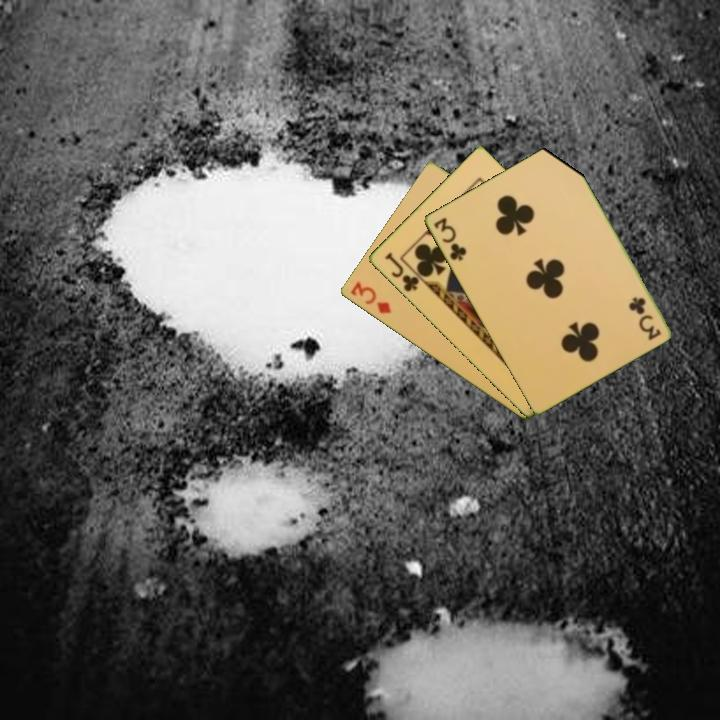3c: (430, 214, 469, 264), (626, 293, 664, 343)
3d: (346, 278, 394, 317)
Jc: (381, 248, 422, 295)
